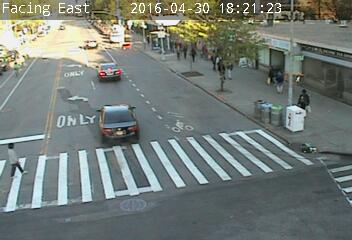neg: (105, 149, 134, 188), (1, 38, 29, 77), (255, 165, 282, 201), (59, 34, 83, 66), (295, 183, 319, 215), (254, 95, 277, 127), (221, 132, 242, 161), (114, 24, 135, 52), (146, 22, 166, 49), (102, 63, 121, 88), (295, 124, 313, 149), (175, 115, 193, 139), (77, 100, 95, 123), (134, 195, 150, 216)
pos: (7, 137, 38, 178), (294, 88, 314, 114), (274, 73, 289, 93), (261, 63, 276, 83), (223, 61, 237, 80), (215, 59, 228, 77), (190, 49, 200, 62), (181, 44, 190, 56), (175, 49, 183, 60)
